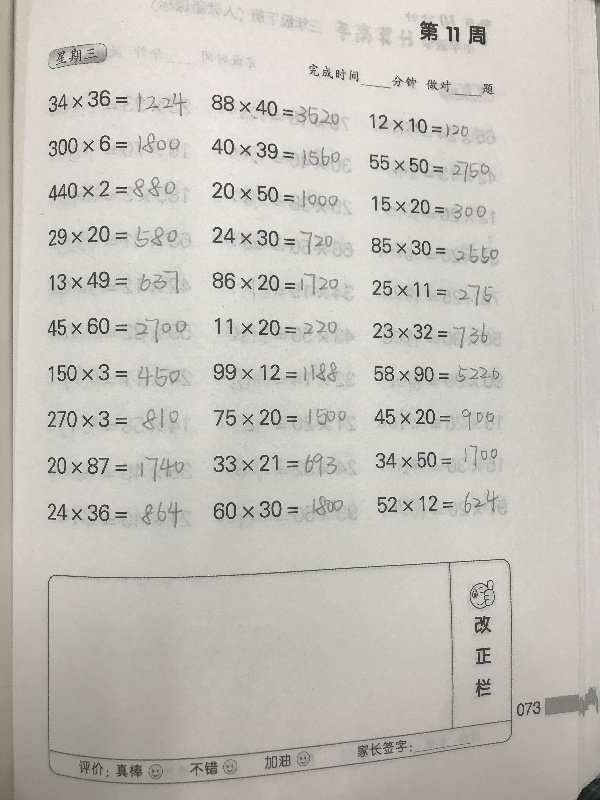equation: (46, 360, 193, 400), (211, 309, 346, 348), (44, 498, 186, 532), (43, 313, 190, 345), (373, 488, 510, 522), (210, 450, 360, 481), (43, 450, 187, 482), (44, 221, 195, 251), (211, 405, 356, 436), (44, 86, 189, 117), (210, 359, 346, 392), (46, 267, 189, 298), (370, 319, 504, 352), (371, 444, 502, 476), (208, 225, 336, 257), (207, 139, 343, 169), (370, 359, 503, 389), (209, 494, 346, 523), (44, 130, 183, 158), (208, 268, 341, 297), (370, 404, 498, 434), (206, 96, 343, 124), (44, 175, 179, 203), (368, 278, 496, 307), (44, 406, 179, 433), (364, 153, 493, 181), (367, 237, 502, 263), (208, 182, 342, 207), (367, 196, 499, 220), (365, 112, 471, 139)
